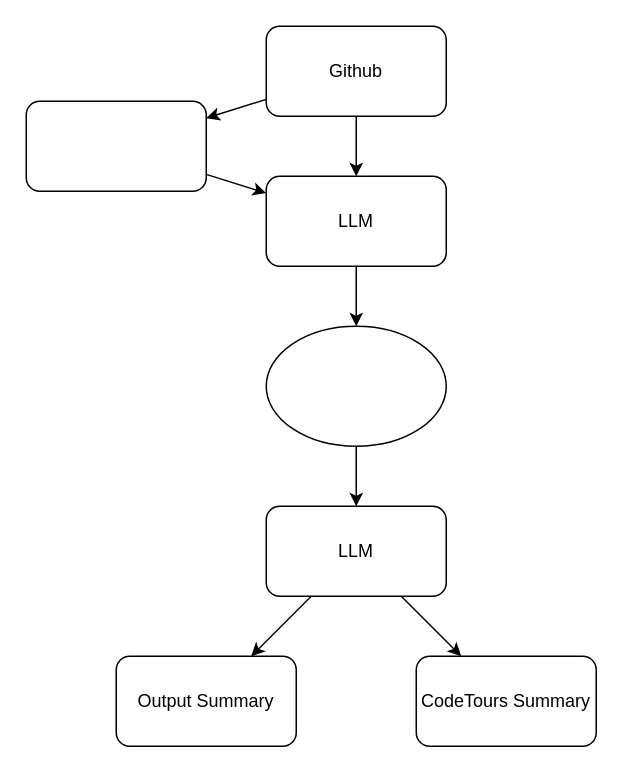
The diagram is 623 pixels wide and 773 high, and some of its shapes have lost their labels. Each missing label, with the centre of its shape:
Indexed Code w/summary commentary: (355,385)
Preprocessing: (115,145)
